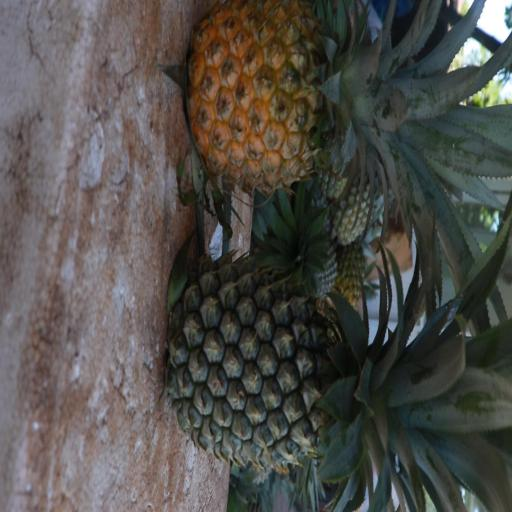Pineapple - v8 v1: (190, 2, 443, 181)
